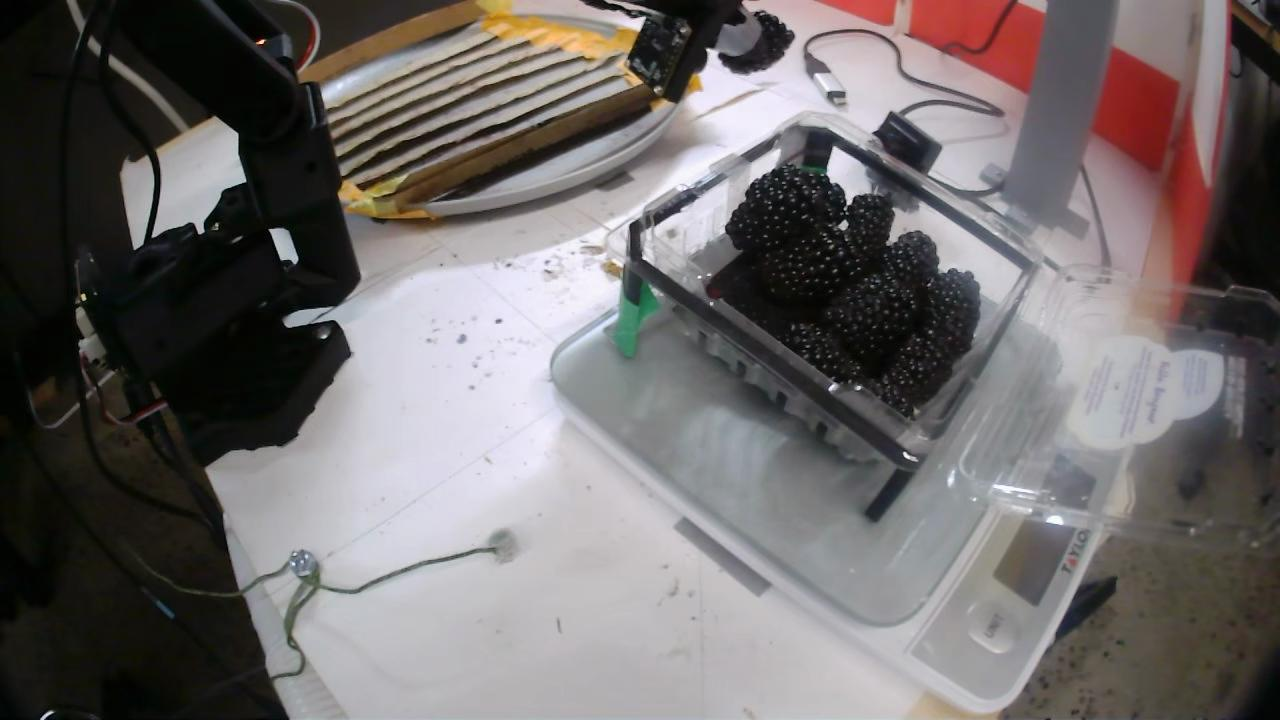berry: (725, 165, 845, 256), (755, 221, 873, 308), (825, 270, 916, 378), (917, 268, 980, 370), (880, 330, 950, 415), (721, 11, 794, 72), (786, 323, 858, 382), (886, 230, 939, 300), (844, 195, 894, 260), (852, 375, 917, 415)
